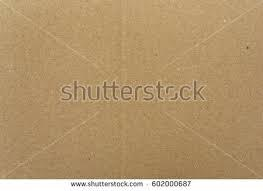Cardboard: (0, 1, 263, 175)
